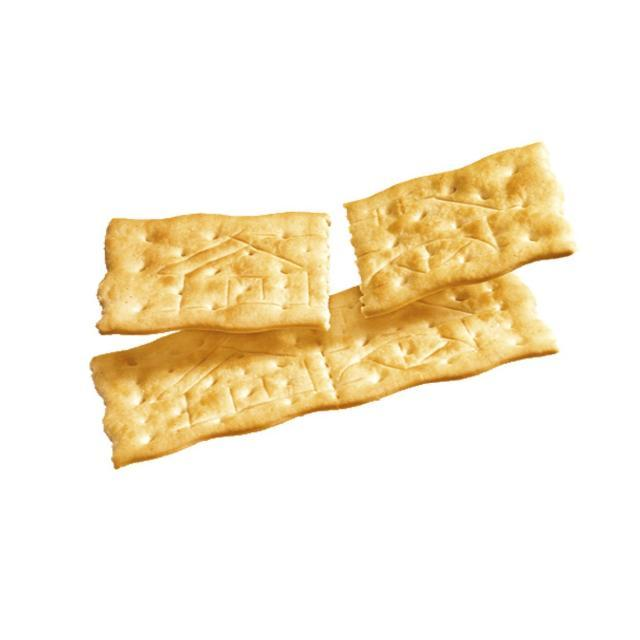Cracker: (82, 272, 570, 463), (342, 144, 574, 313), (93, 210, 334, 335)
